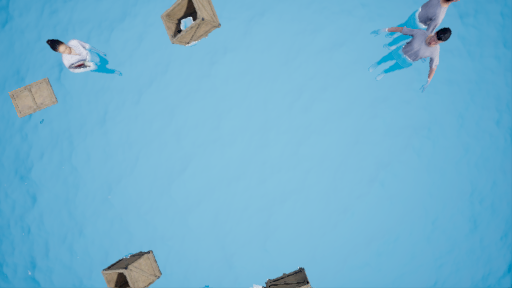person: (368, 1, 458, 94), (49, 39, 122, 80)
